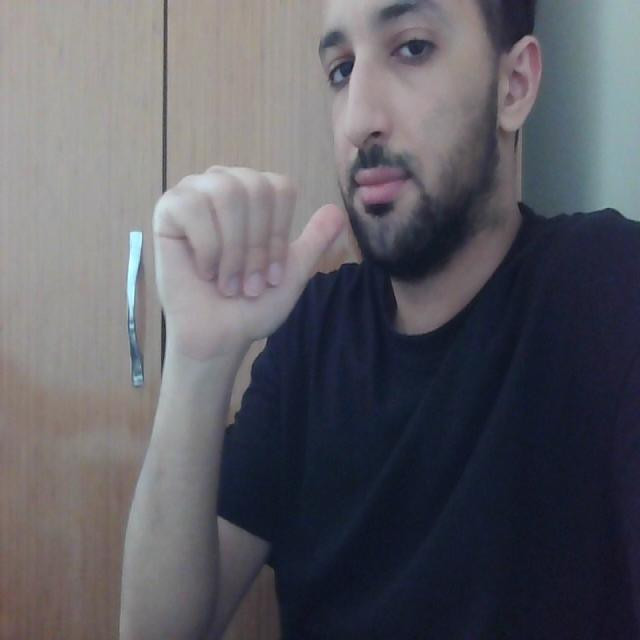icmek: (132, 125, 411, 336)
